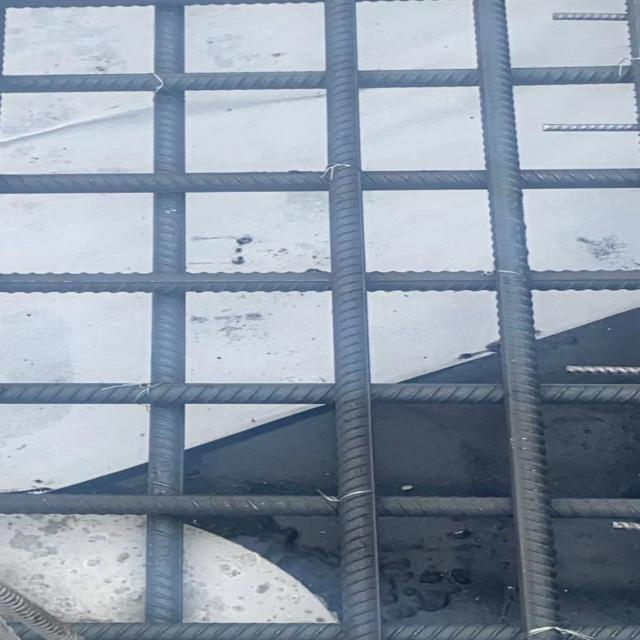ribbed bar: (469, 0, 563, 639), (324, 0, 379, 639), (144, 6, 183, 626), (0, 490, 638, 522), (0, 64, 638, 94), (0, 168, 638, 193), (0, 269, 638, 293), (0, 381, 638, 404), (0, 624, 638, 638)
